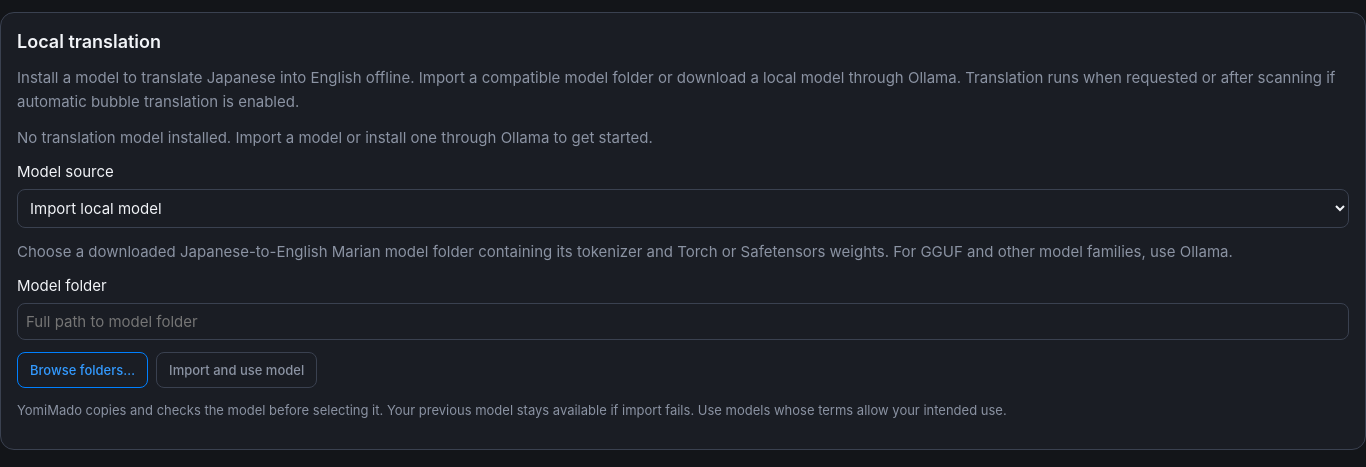
imports a chosen folder and immediately shows the selected model
Select "Import local model" in the dropdown labelled "Model source": (683, 209) [17,189,1349,228]
Click the button "Browse folders…": (83, 370) [17,352,148,388]
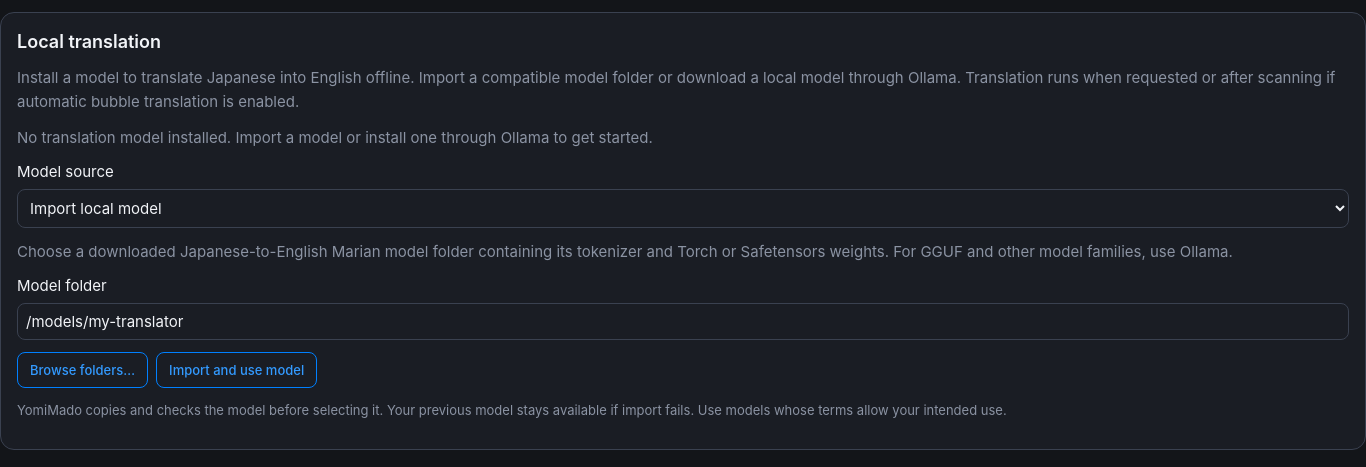
Check: the field labelled "Model folder" holds "/models/my-translator", box [17,303,1349,340]
Click the button "Import and use model": (237, 370) [156,352,317,388]
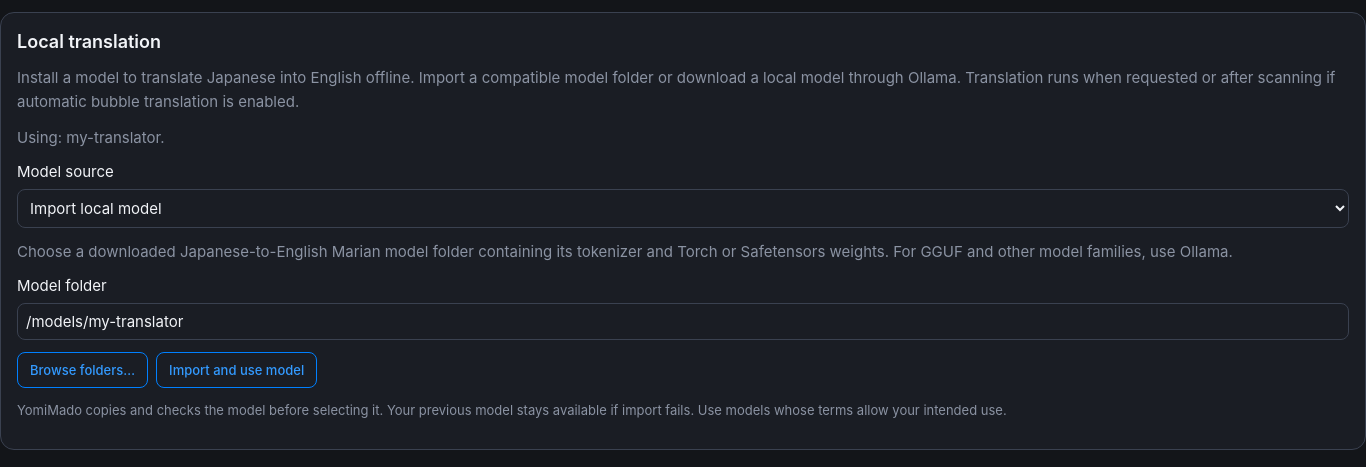
Check: the text "Using: my-translator" is shown, box [17,128,165,147]
